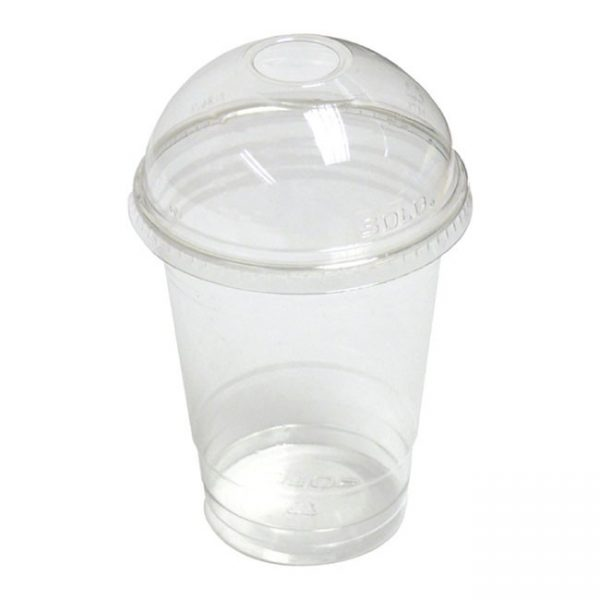plastic_glass: (122, 26, 477, 569)
